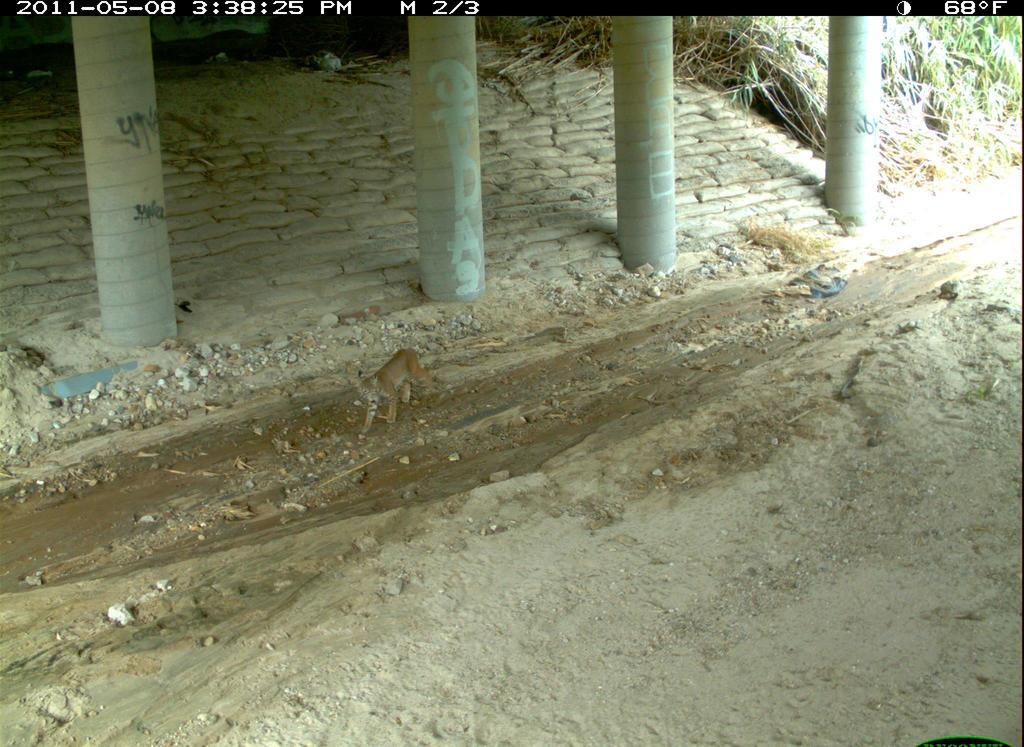bobcat: (703, 688, 876, 747)
